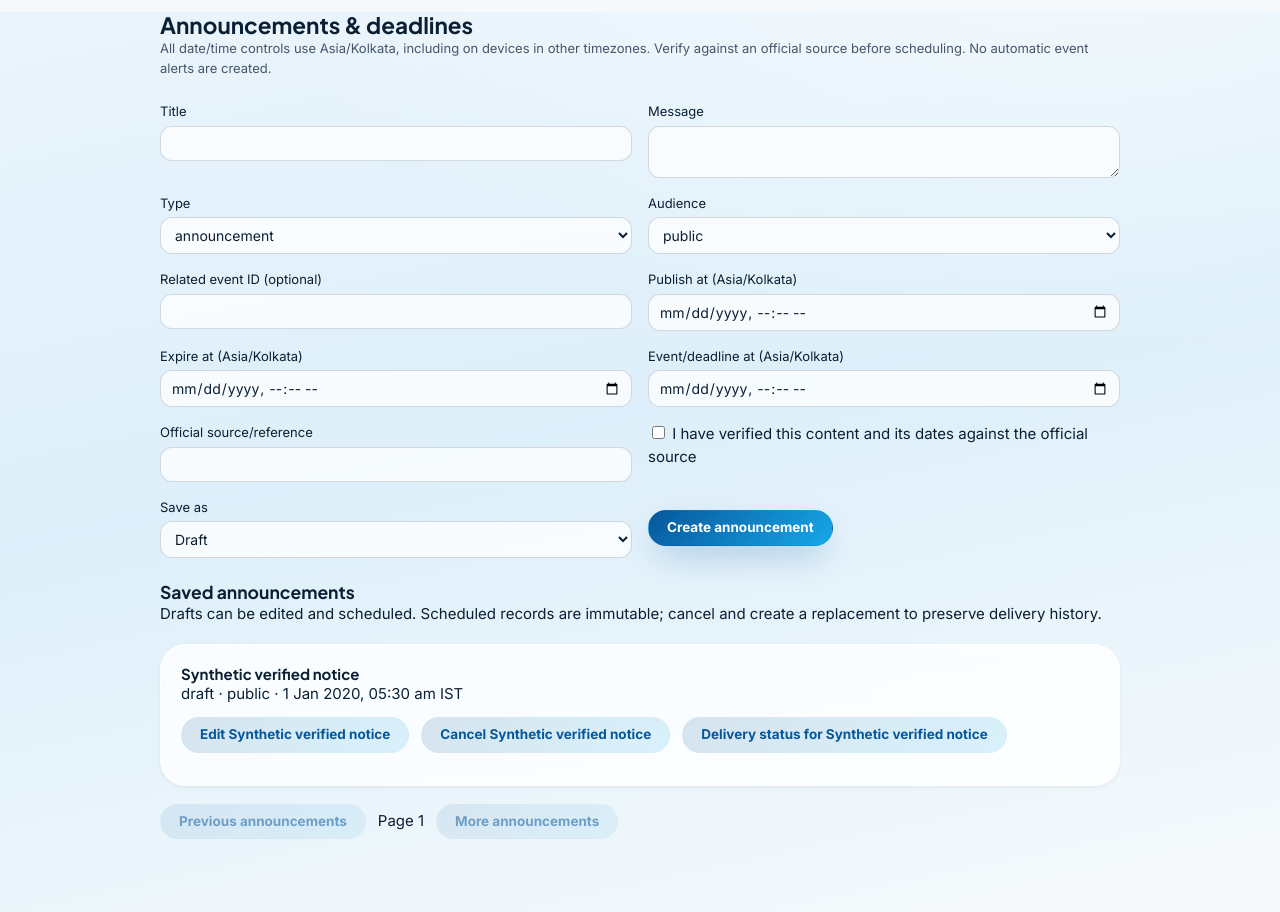
Test: admin can edit a draft, schedule with verified source and cancel without deleting history
Click the button "Edit Synthetic verified notice" at (295, 735), box [181,717,409,752]
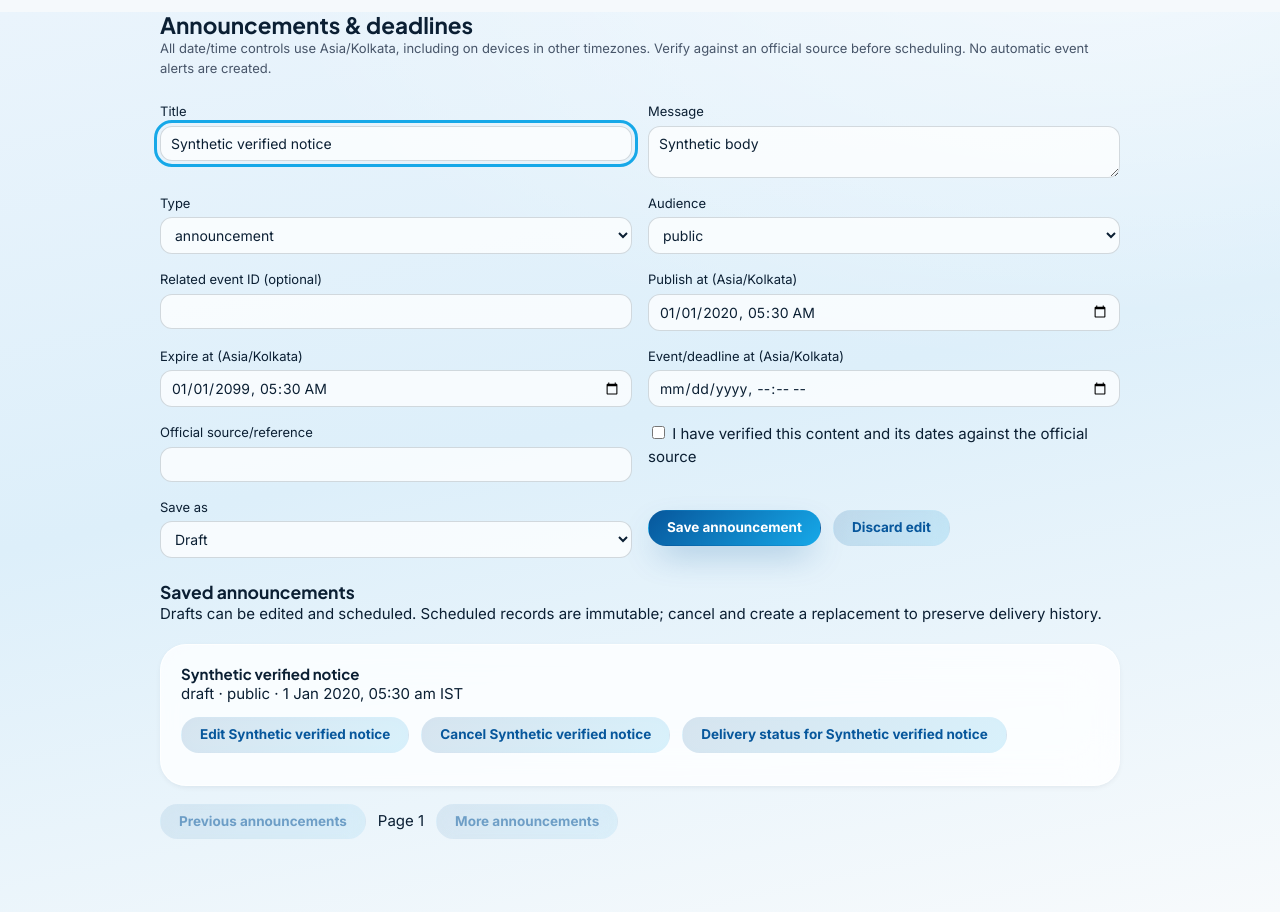
Type "Synthetic official circular" into the field labelled "Official source/reference" at (396, 464), box [160,446,632,482]
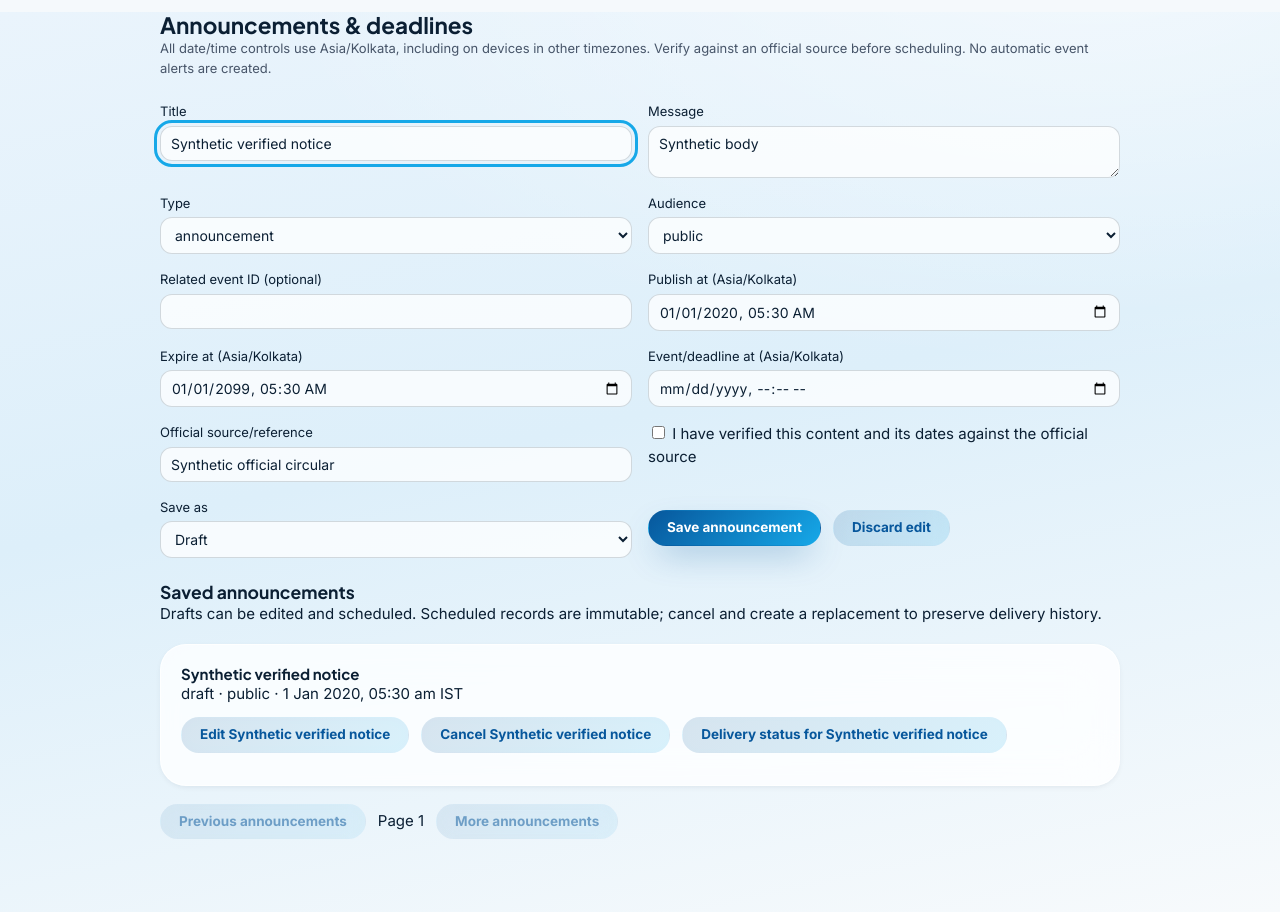
Click the checkbox at (658, 432), box [652,426,665,439]
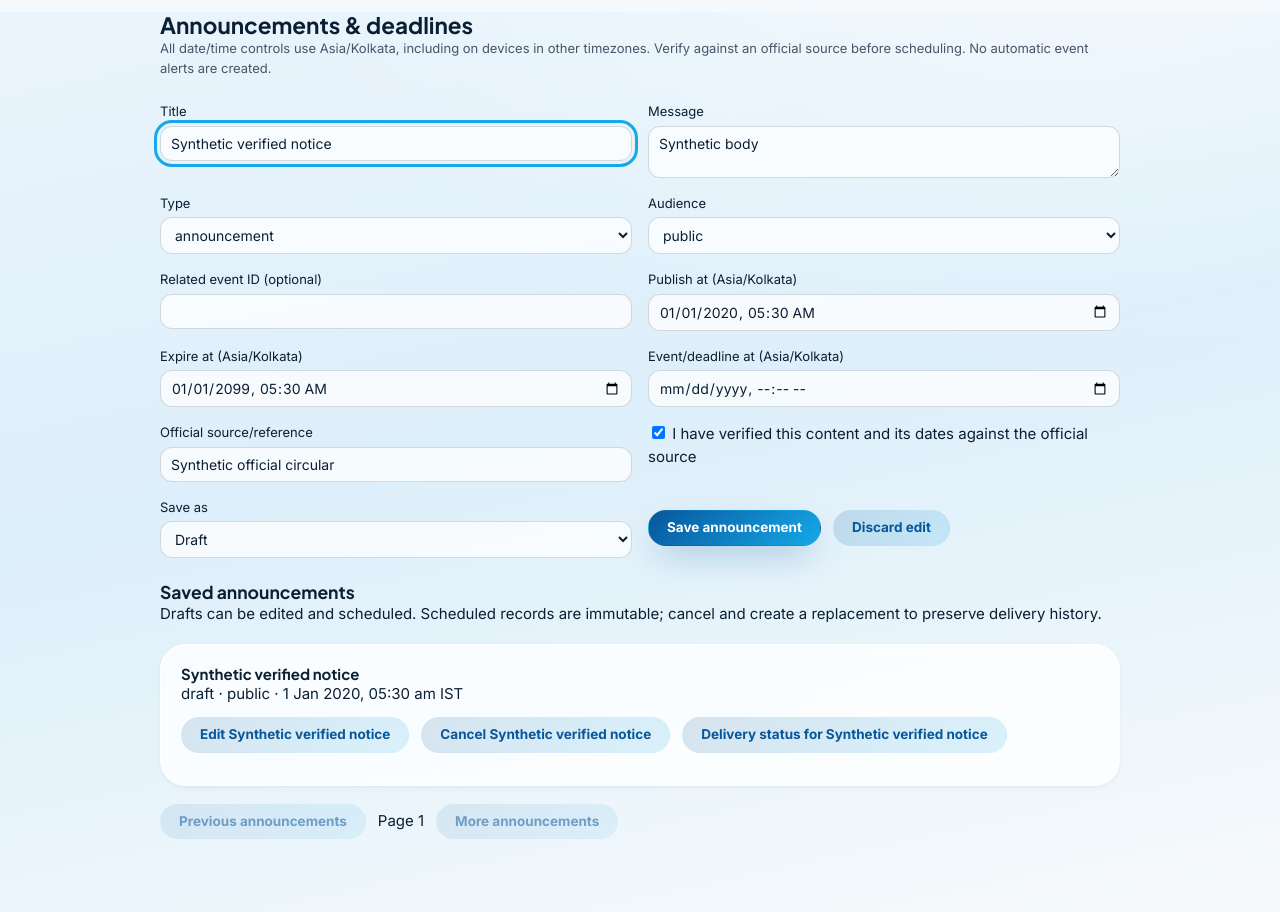
Select "Scheduled (official verification required)" in the dropdown labelled "Save as" at (396, 540), box [160,521,632,558]
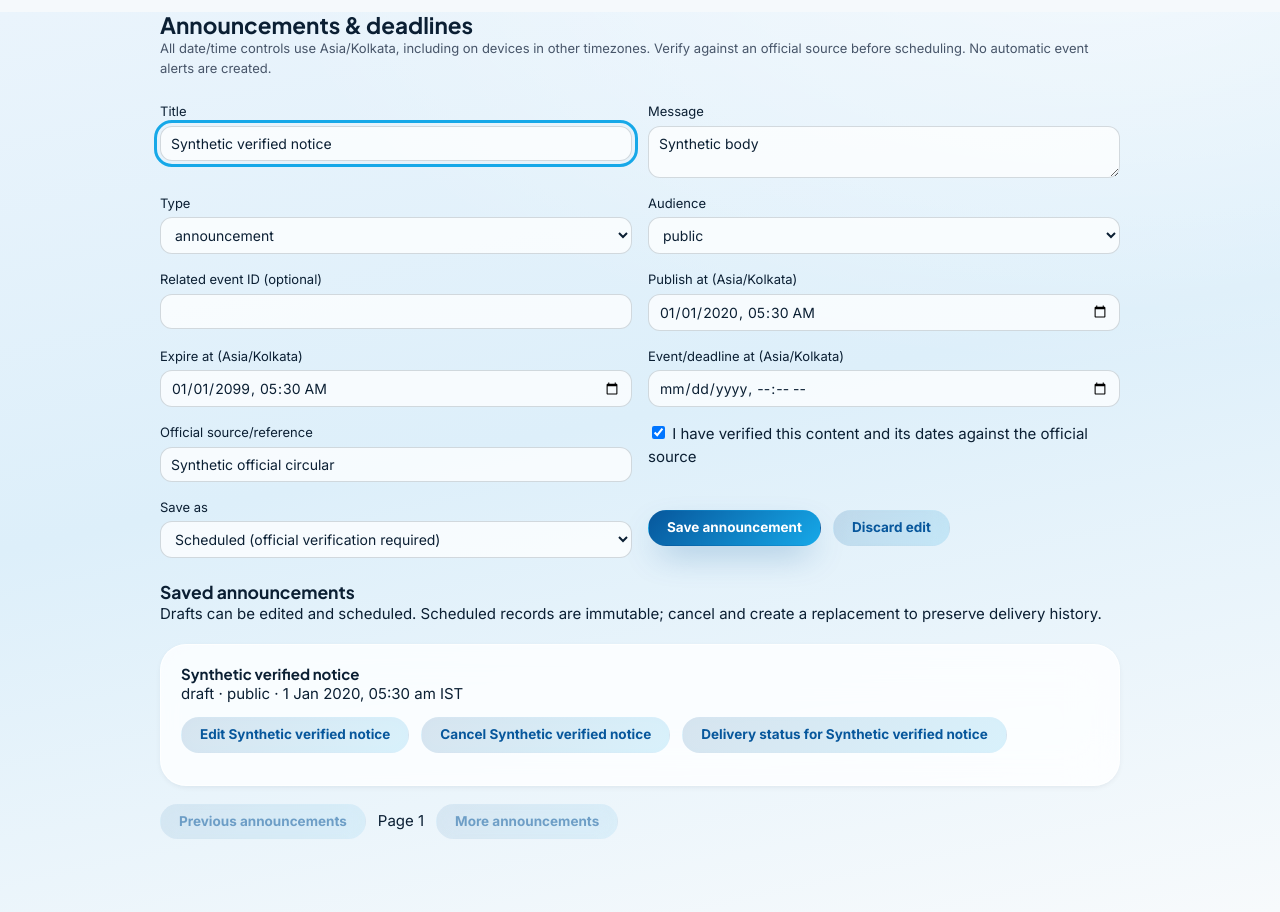
Click the button "Save announcement" at (734, 528), box [648,510,821,546]
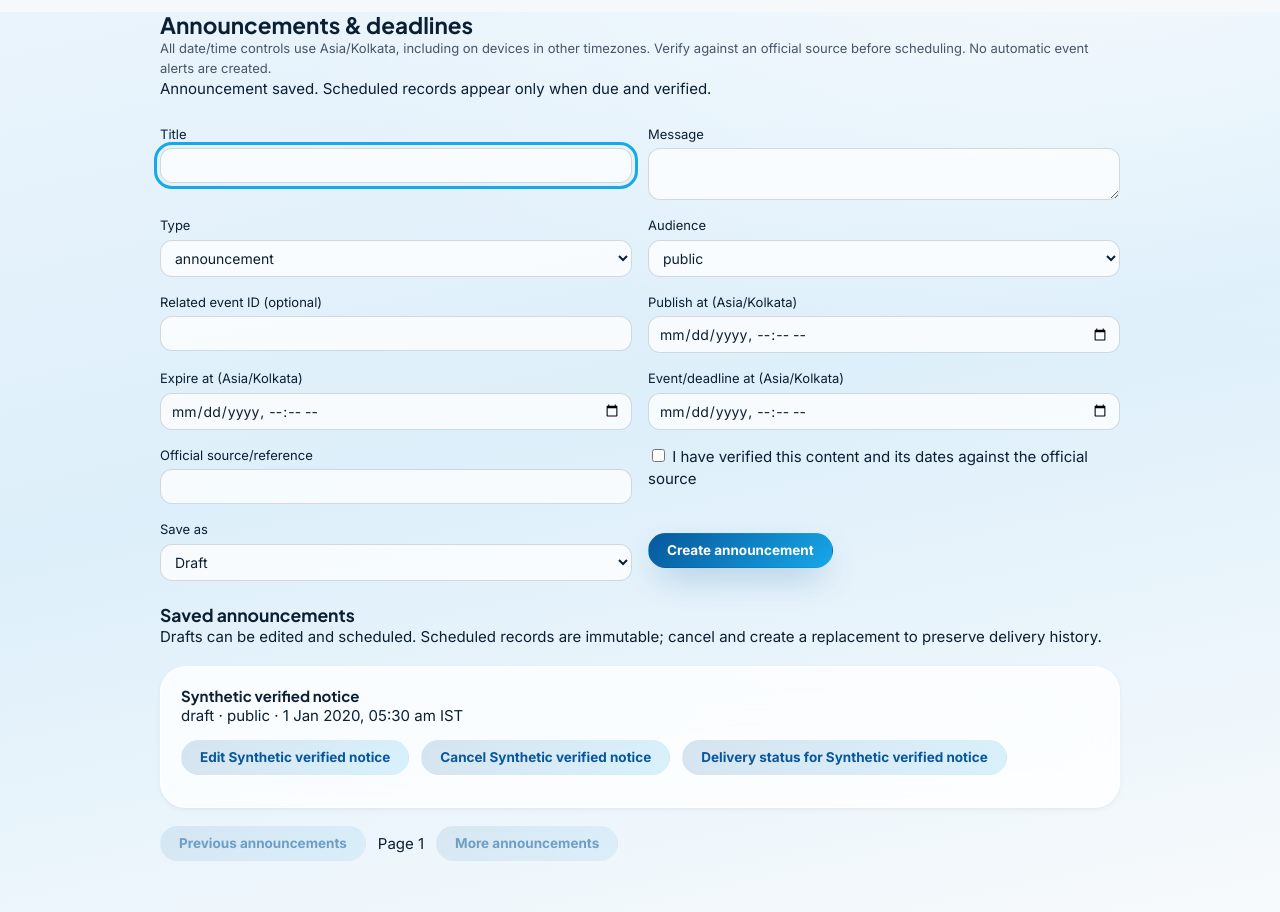
Check: the text "Announcement saved. Scheduled records appear only when due and verified." is shown, box [160,79,711,98]
Click the button "Cancel Synthetic verified notice" at (546, 757), box [421,740,670,775]
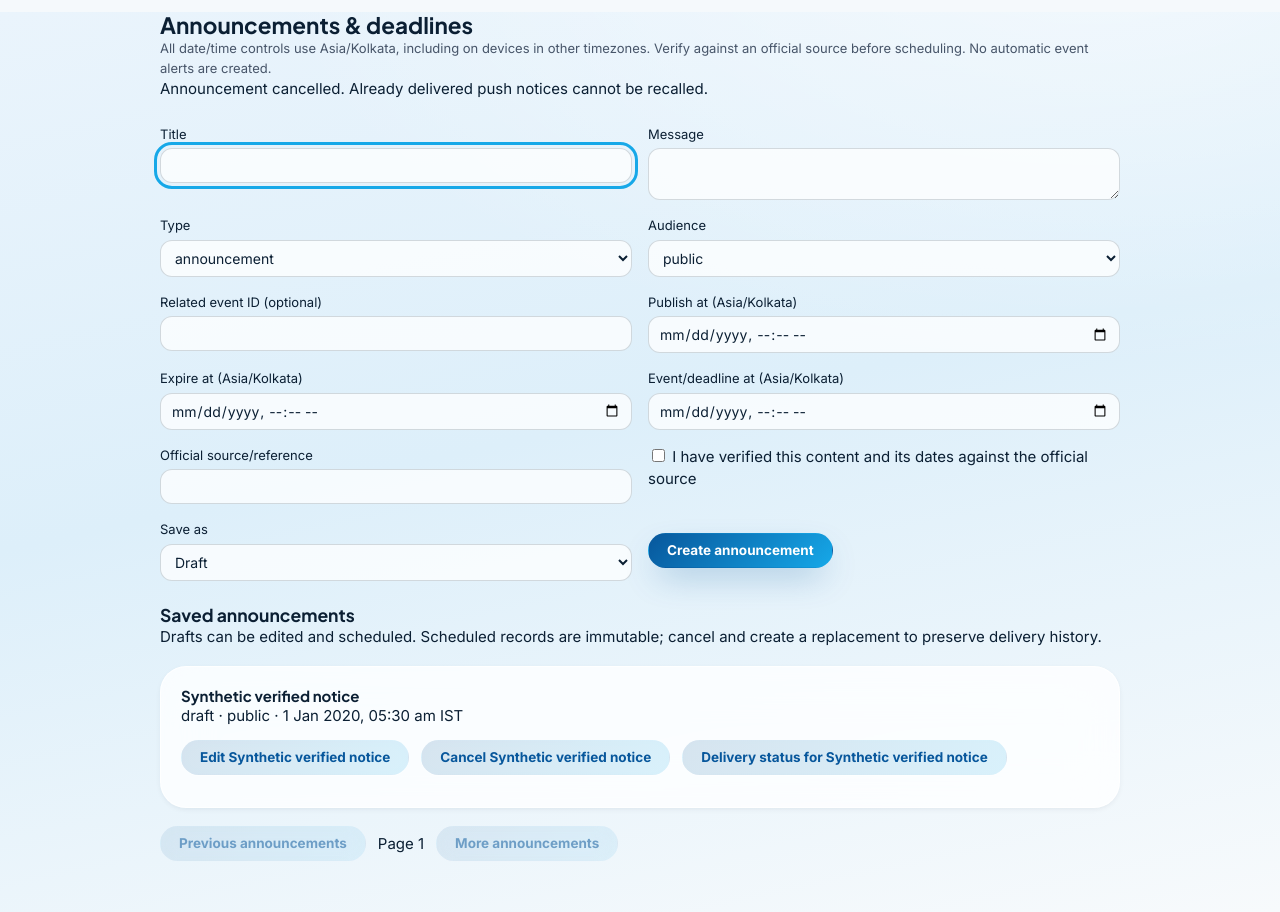
Check: the text "Announcement cancelled. Already delivered push notices cannot be recalled." is shown, box [160,79,708,98]
